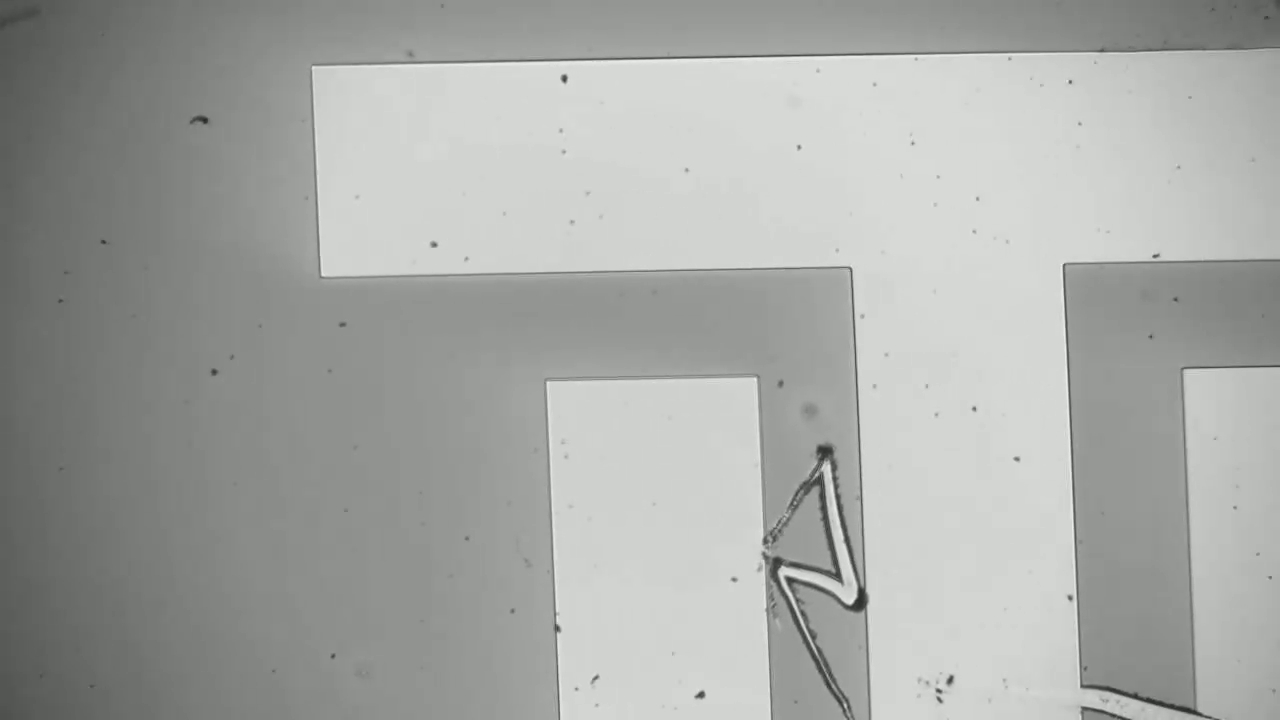Short_circuit: (740, 547, 892, 621)
